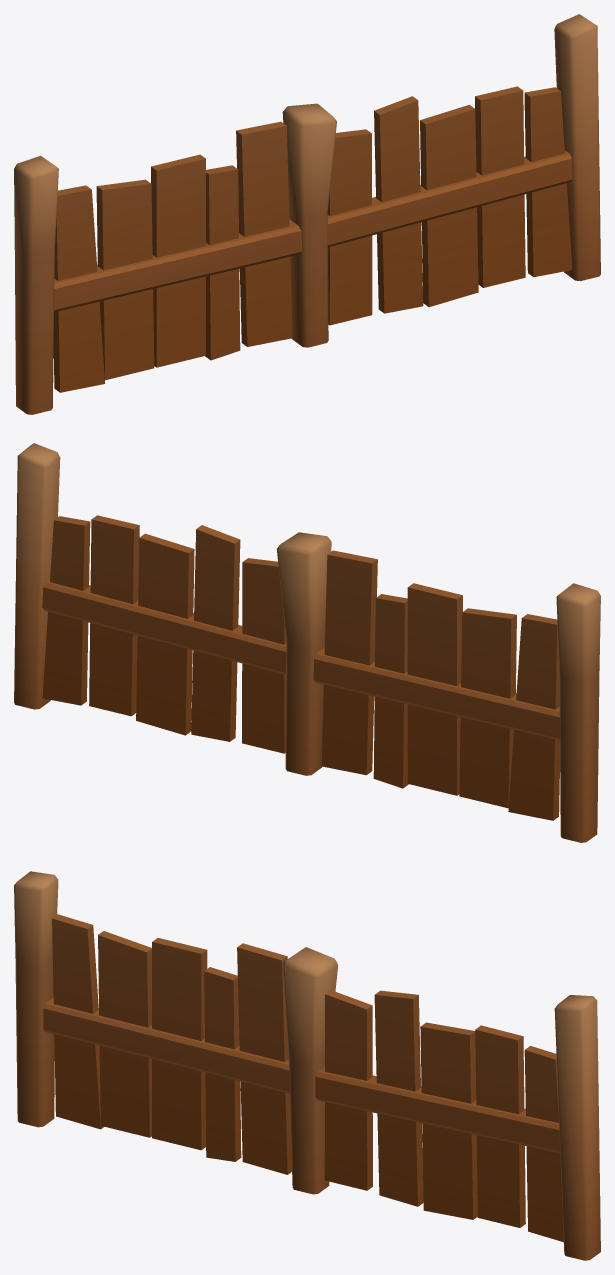
Rendered from WallFence_1_2_A.glb.
3 renders of one model, top to bottom at view 1: azimuth 30°, elevation 25°; view 2: azimuth 150°, elevation 25°; view 3: azimuth 330°, elevation 25°, orthographic.
Visible parts, largest first — view 1: WallFence_1_2_A; view 2: WallFence_1_2_A; view 3: WallFence_1_2_A.
Part boxes in pixels (left/top/right/bottom): WallFence_1_2_A: left=14, top=14, right=600, bottom=414; WallFence_1_2_A: left=14, top=443, right=600, bottom=842; WallFence_1_2_A: left=14, top=871, right=600, bottom=1260.
Bounding box in the file's own units: 2.09 × 0.8788 × 0.143.
Materials: 1 (1 with a texture image).
